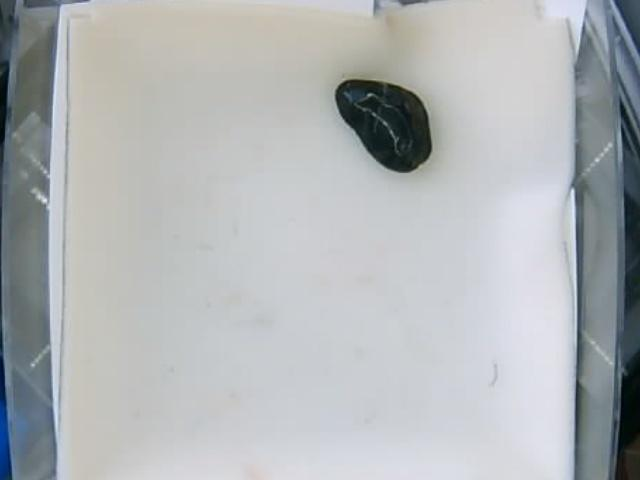Pebble: (335, 77, 435, 176)
